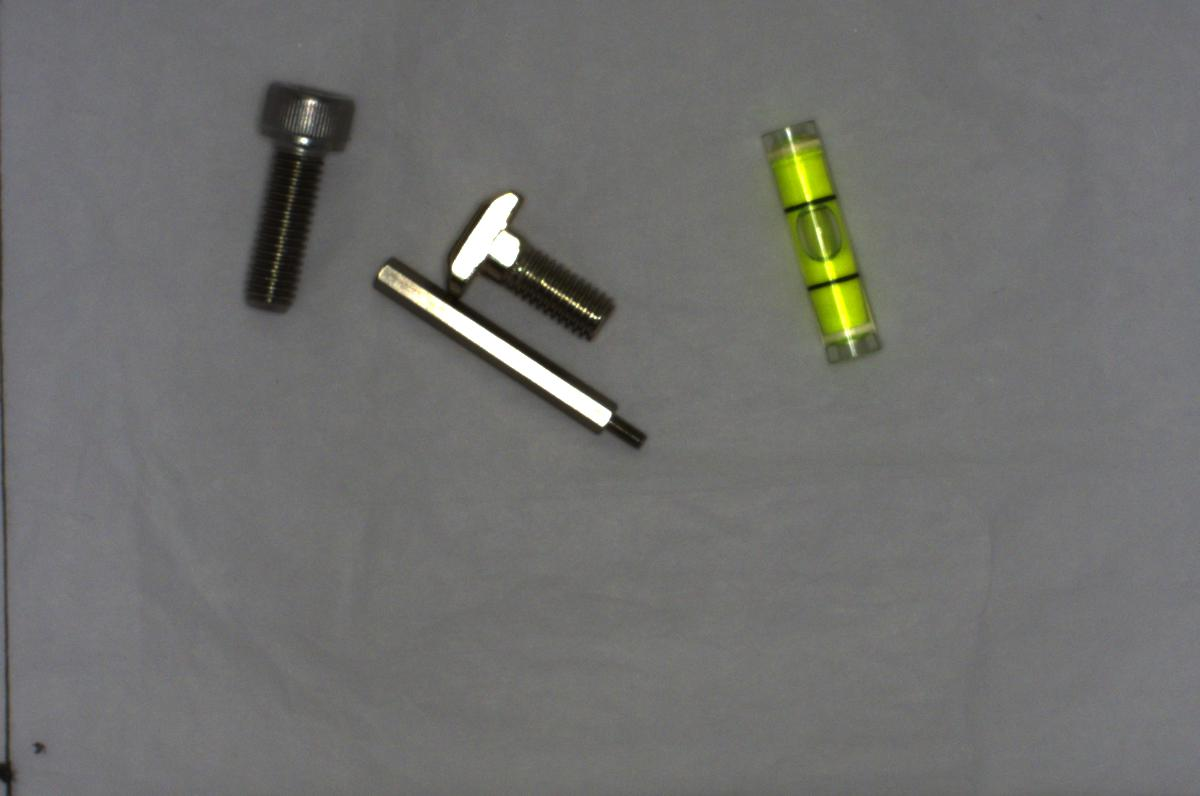Hexagon screw: (238, 72, 354, 323)
Hexagonal steel column: (371, 260, 647, 448)
Horizontal bubble: (758, 105, 878, 367)
T-shaped screw: (440, 181, 621, 342)
